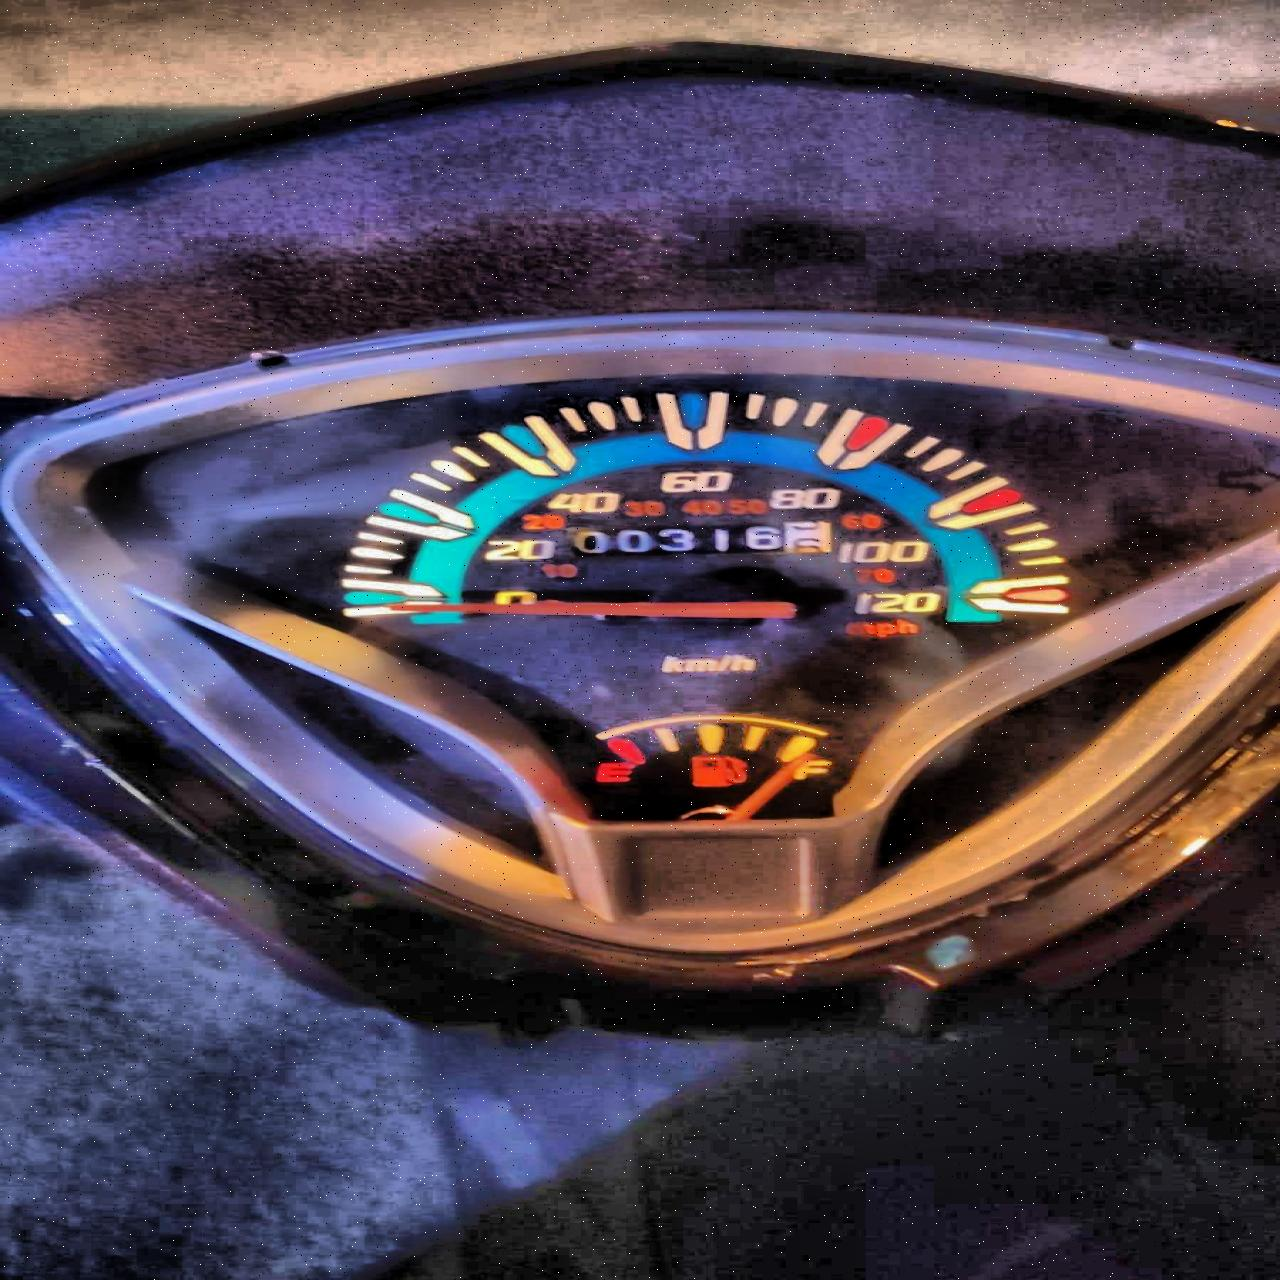0: (571, 529, 610, 553), (615, 527, 652, 553)
1: (709, 526, 731, 552)
3: (658, 526, 696, 553)
6: (743, 524, 782, 550), (791, 535, 823, 556)
odometer: (561, 520, 840, 557)
